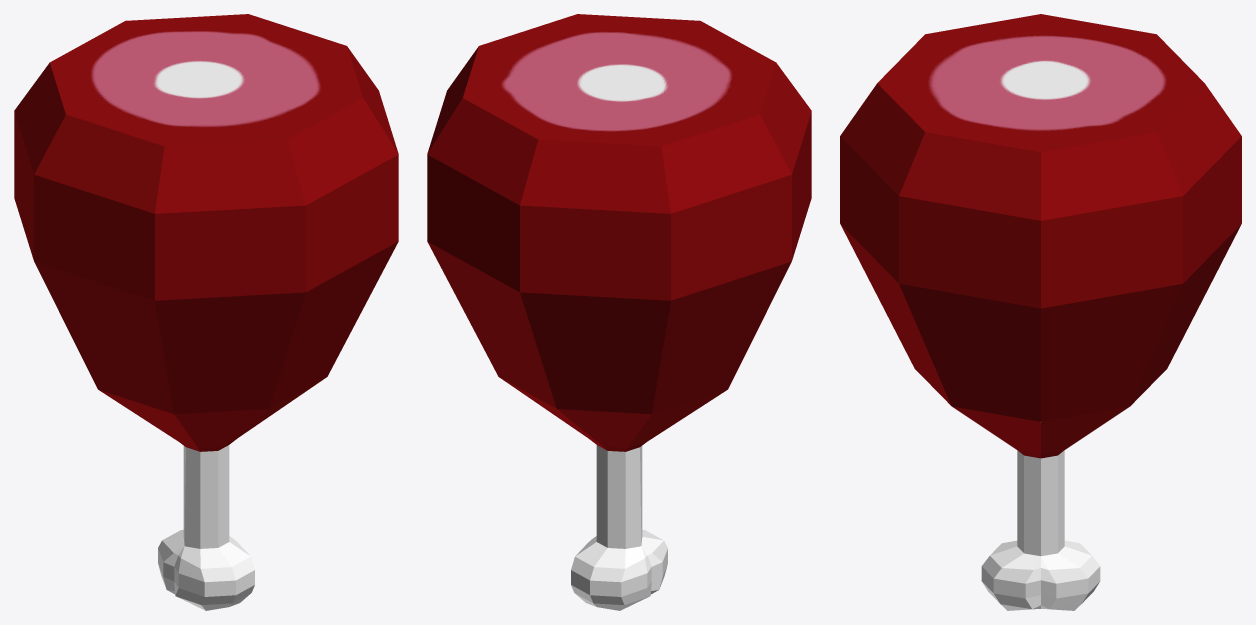
Rendered from coxa de desenho animado.fbx.
3 views of the same model, side by side, from view 1: azimuth 30°, elevation 25°; view 2: azimuth 150°, elevation 25°; view 3: azimuth 270°, elevation 25° (orthographic).
Parts seen in each view (by area): view 1: osso; view 2: osso; view 3: osso.
Part boxes in pixels (box(x1,y1,x2,y2)): osso: box(14, 14, 398, 610); osso: box(427, 14, 811, 610); osso: box(840, 14, 1241, 610).
Bounding box in the file's own units: 1025 × 1462 × 1025.
